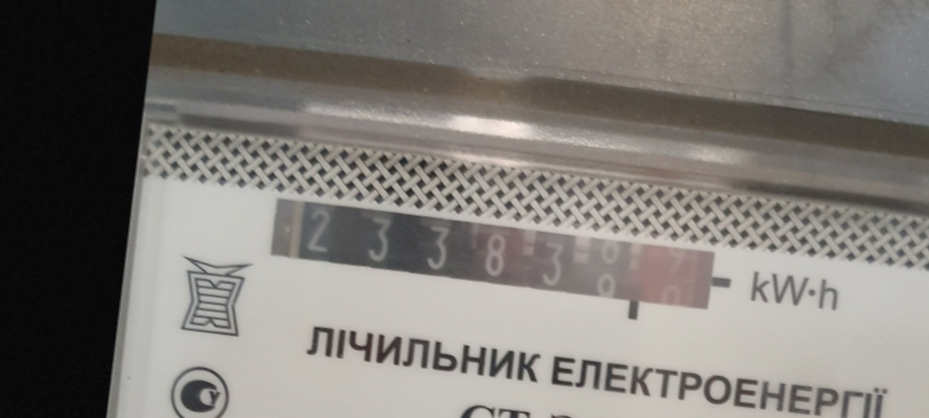0: (656, 279, 685, 307)
2: (301, 203, 335, 255)
3: (362, 212, 394, 265), (422, 221, 452, 274), (537, 237, 567, 288)
8: (479, 229, 509, 277), (594, 237, 625, 266)
9: (590, 267, 620, 299), (661, 244, 688, 275)
screen: (254, 184, 733, 332)
